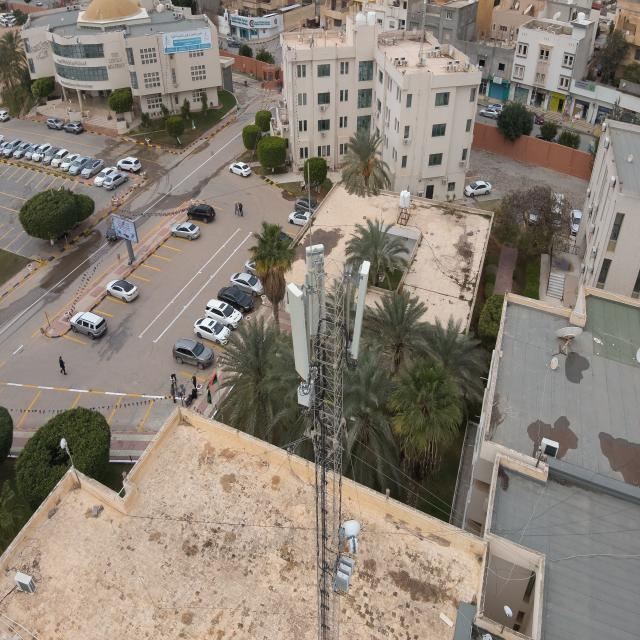antenna: (283, 277, 312, 380), (348, 259, 373, 364), (304, 245, 331, 341)
lighnig-rad: (306, 163, 316, 287)
microware-dish: (338, 518, 368, 558)
power-box: (332, 549, 357, 593)
radio-unit: (293, 380, 320, 410)
